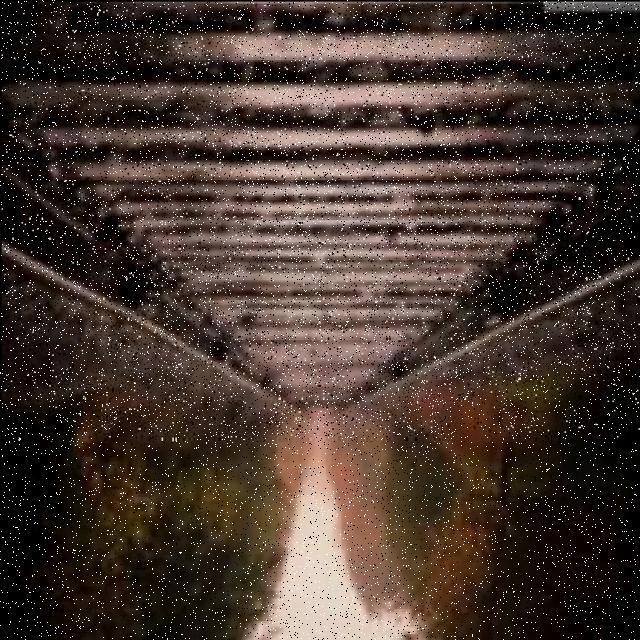rail: (0, 3, 640, 439)
